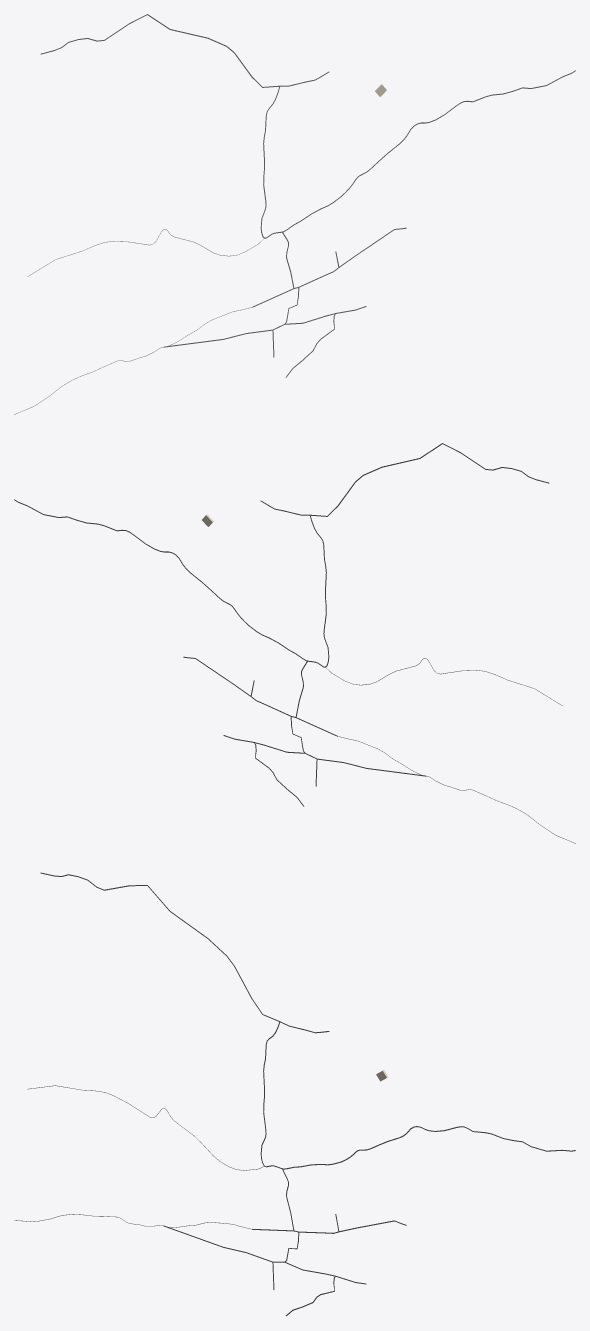
The model's file is historic-palestine-08_21_3495_3155.glb.
The picture shows the model from 3 angles, top to bottom: view 1: azimuth 30°, elevation 25°; view 2: azimuth 150°, elevation 25°; view 3: azimuth 330°, elevation 25°; orthographic projection.
Parts seen in each view (by area): view 1: Road .007, Road .006; view 2: Road .007, Road .006; view 3: Road .007.
Part boxes in pixels (x1,y1,x2,y2): Road .007: (260, 70, 575, 238); Road .006: (40, 14, 329, 87); Road .007: (14, 499, 329, 667); Road .006: (260, 443, 549, 516); Road .007: (260, 1021, 575, 1169).
Size of the model in its own units: 1830 by 1237 by 8.7.
